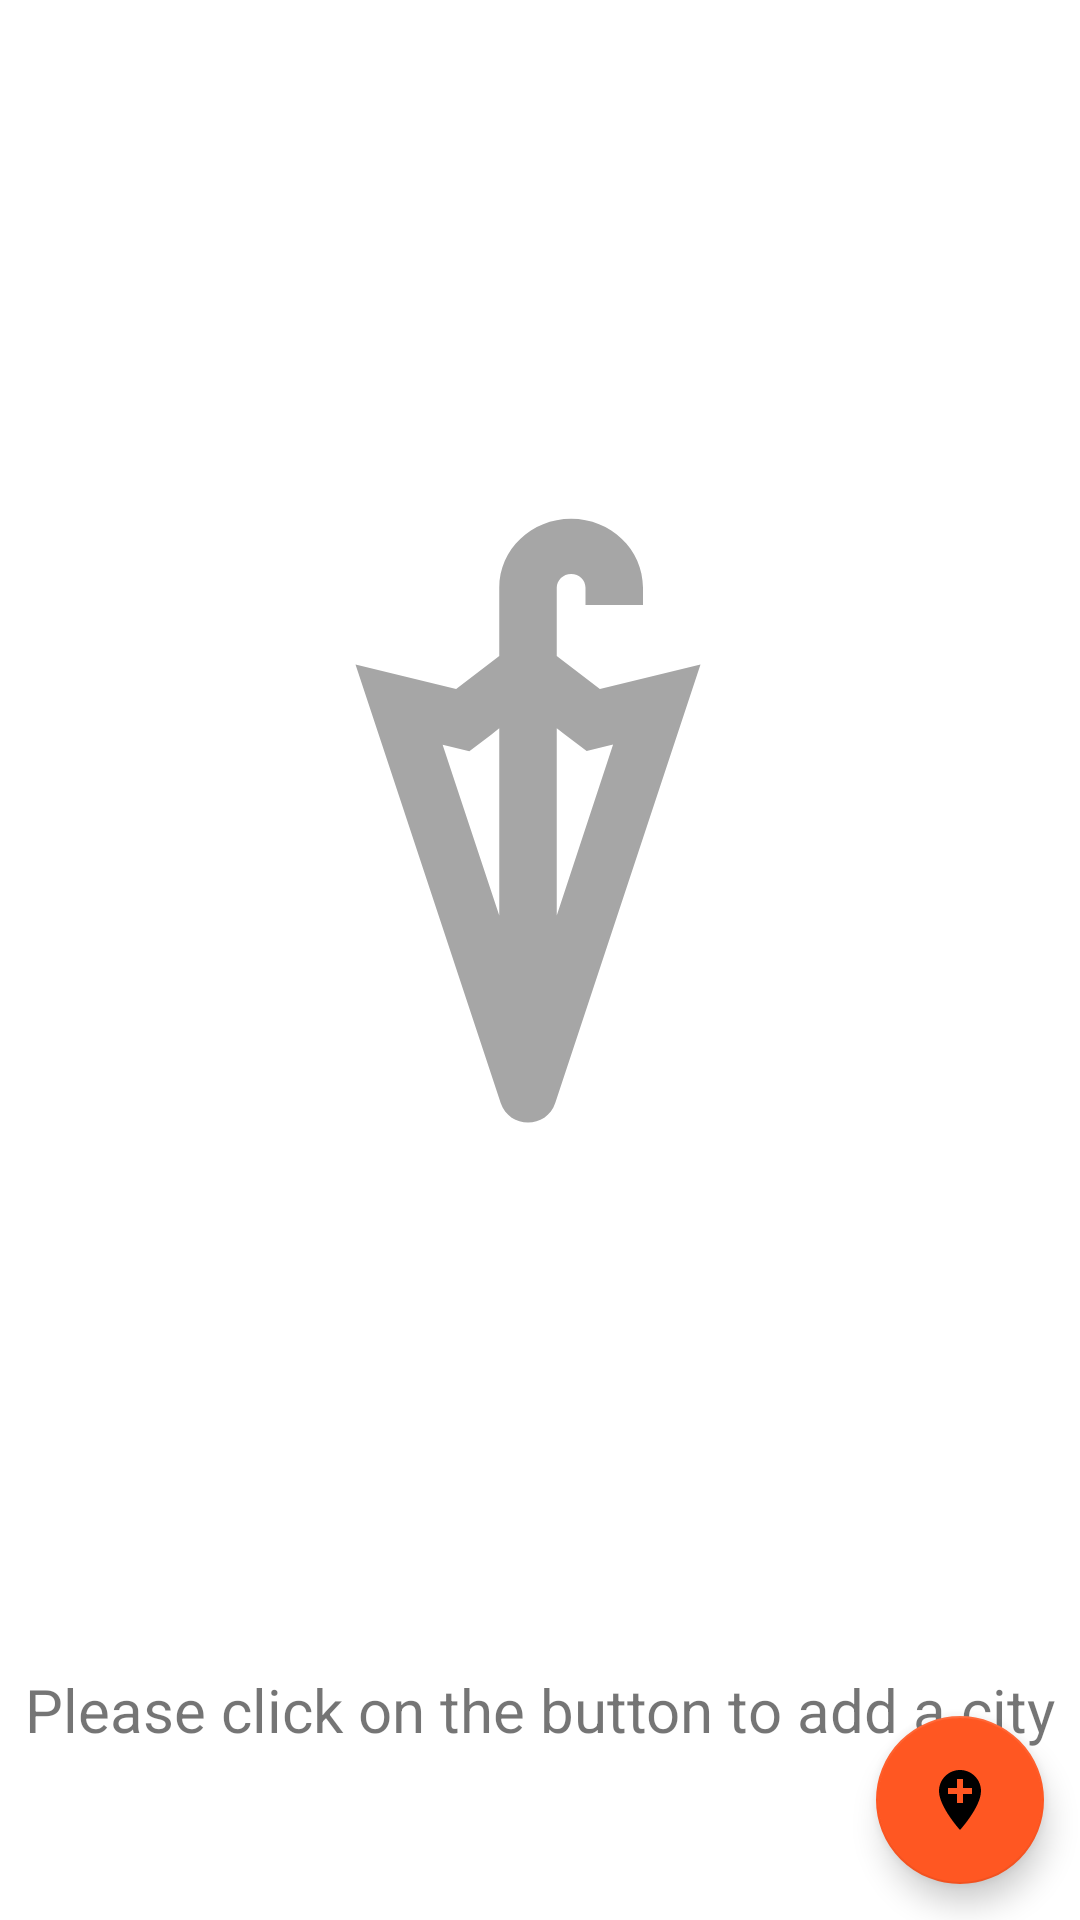

Icon bounding boxes for this 1080×1920 phone screenshot, format [x1,y1,x2,y2]:
add location: [876,1716,1044,1884]
